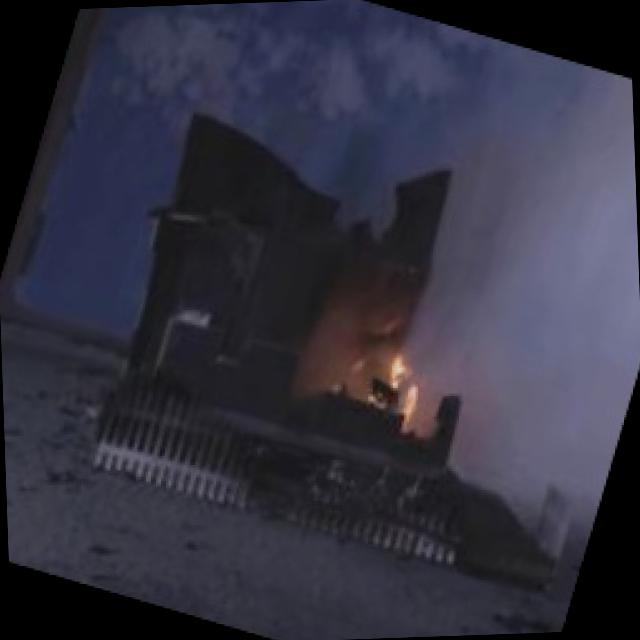fire: (346, 314, 460, 440)
smoke: (395, 32, 640, 405)
